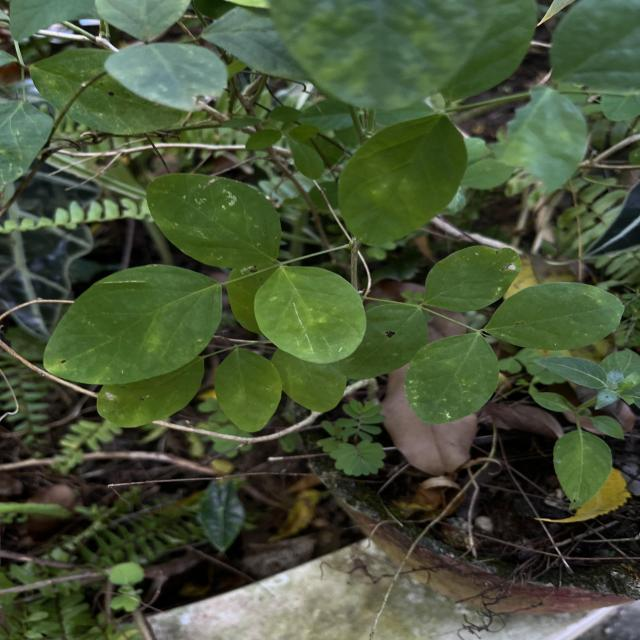Clitoria ternatea: (41, 262, 224, 386), (145, 172, 284, 270), (252, 265, 369, 365), (482, 282, 626, 352), (402, 332, 500, 426)
